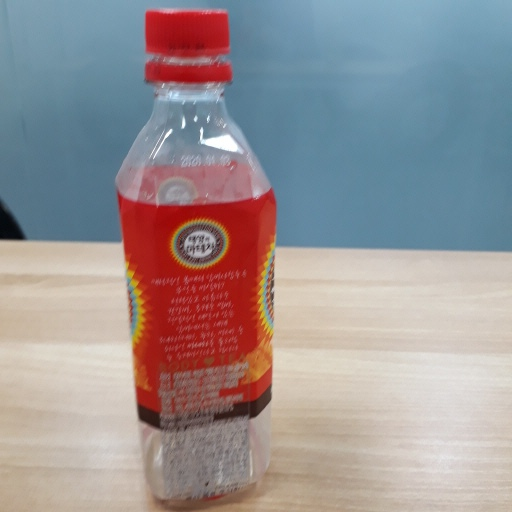Plastic_0: (109, 8, 277, 506)
